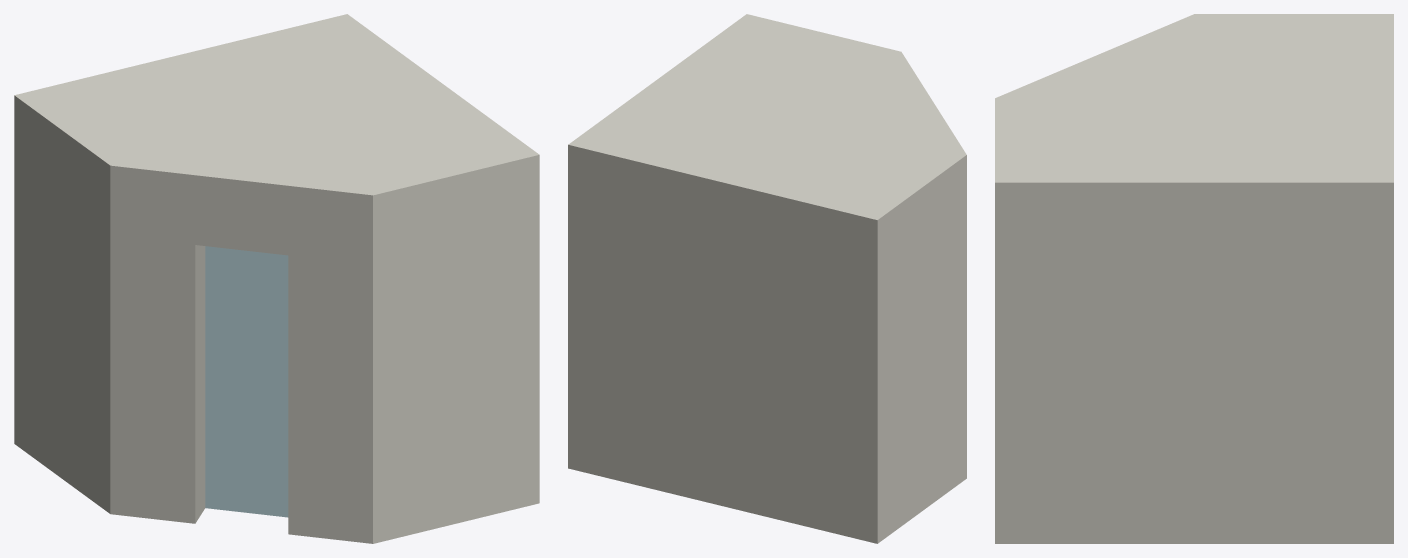
Rendered from Building Story 32.fbx.
3 renders of one model, left to right at view 1: azimuth 30°, elevation 25°; view 2: azimuth 150°, elevation 25°; view 3: azimuth 270°, elevation 25°, orthographic. The views are drawn at different scales.
Parts seen in each view (by area): view 1: Building Story 32; view 2: Building Story 32; view 3: Building Story 32.
Part boxes in pixels (left/top/right/bottom): Building Story 32: left=14, top=14, right=539, bottom=543; Building Story 32: left=568, top=14, right=966, bottom=543; Building Story 32: left=995, top=14, right=1393, bottom=543.
Size of the model in its own units: 1 by 1 by 1.
